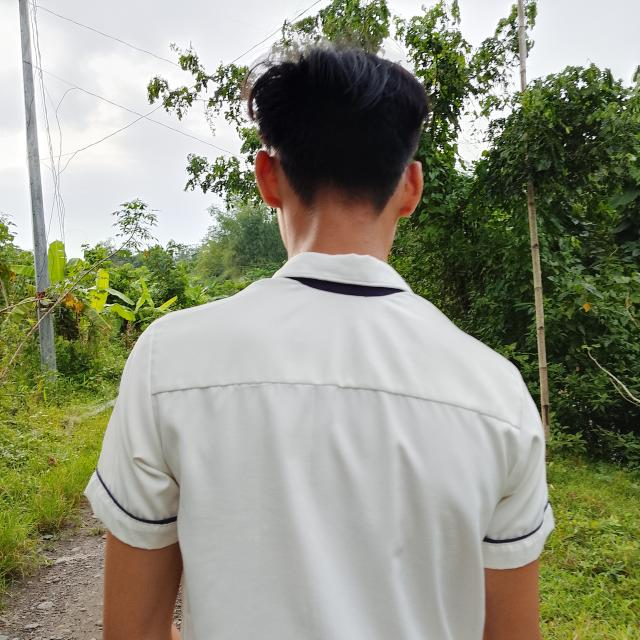education_male_uniform: (70, 229, 571, 585)
